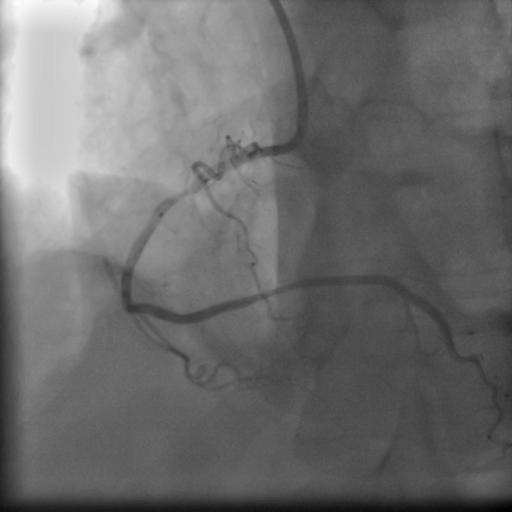Stenosis: (163, 182, 200, 203)
